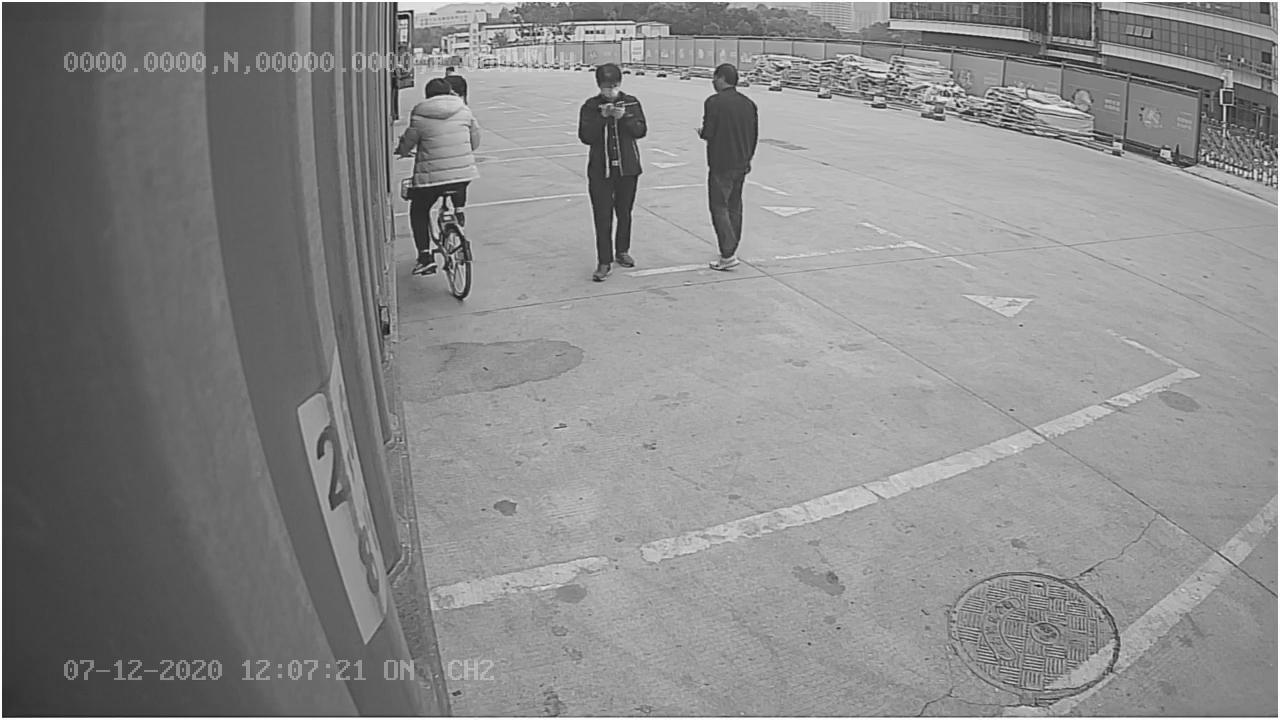person: (573, 58, 646, 279), (697, 54, 760, 272)
